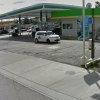Car: (30, 27, 63, 44)
